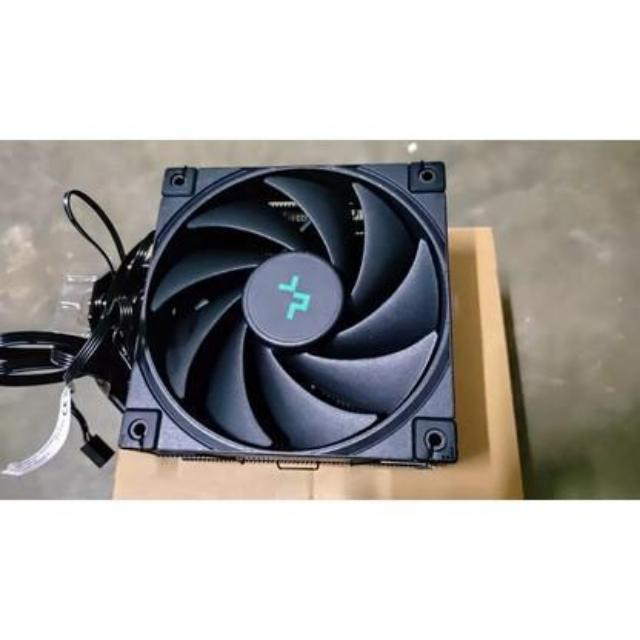CPU_Fan: (96, 162, 467, 470)
